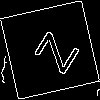Z: (25, 25, 80, 75)
